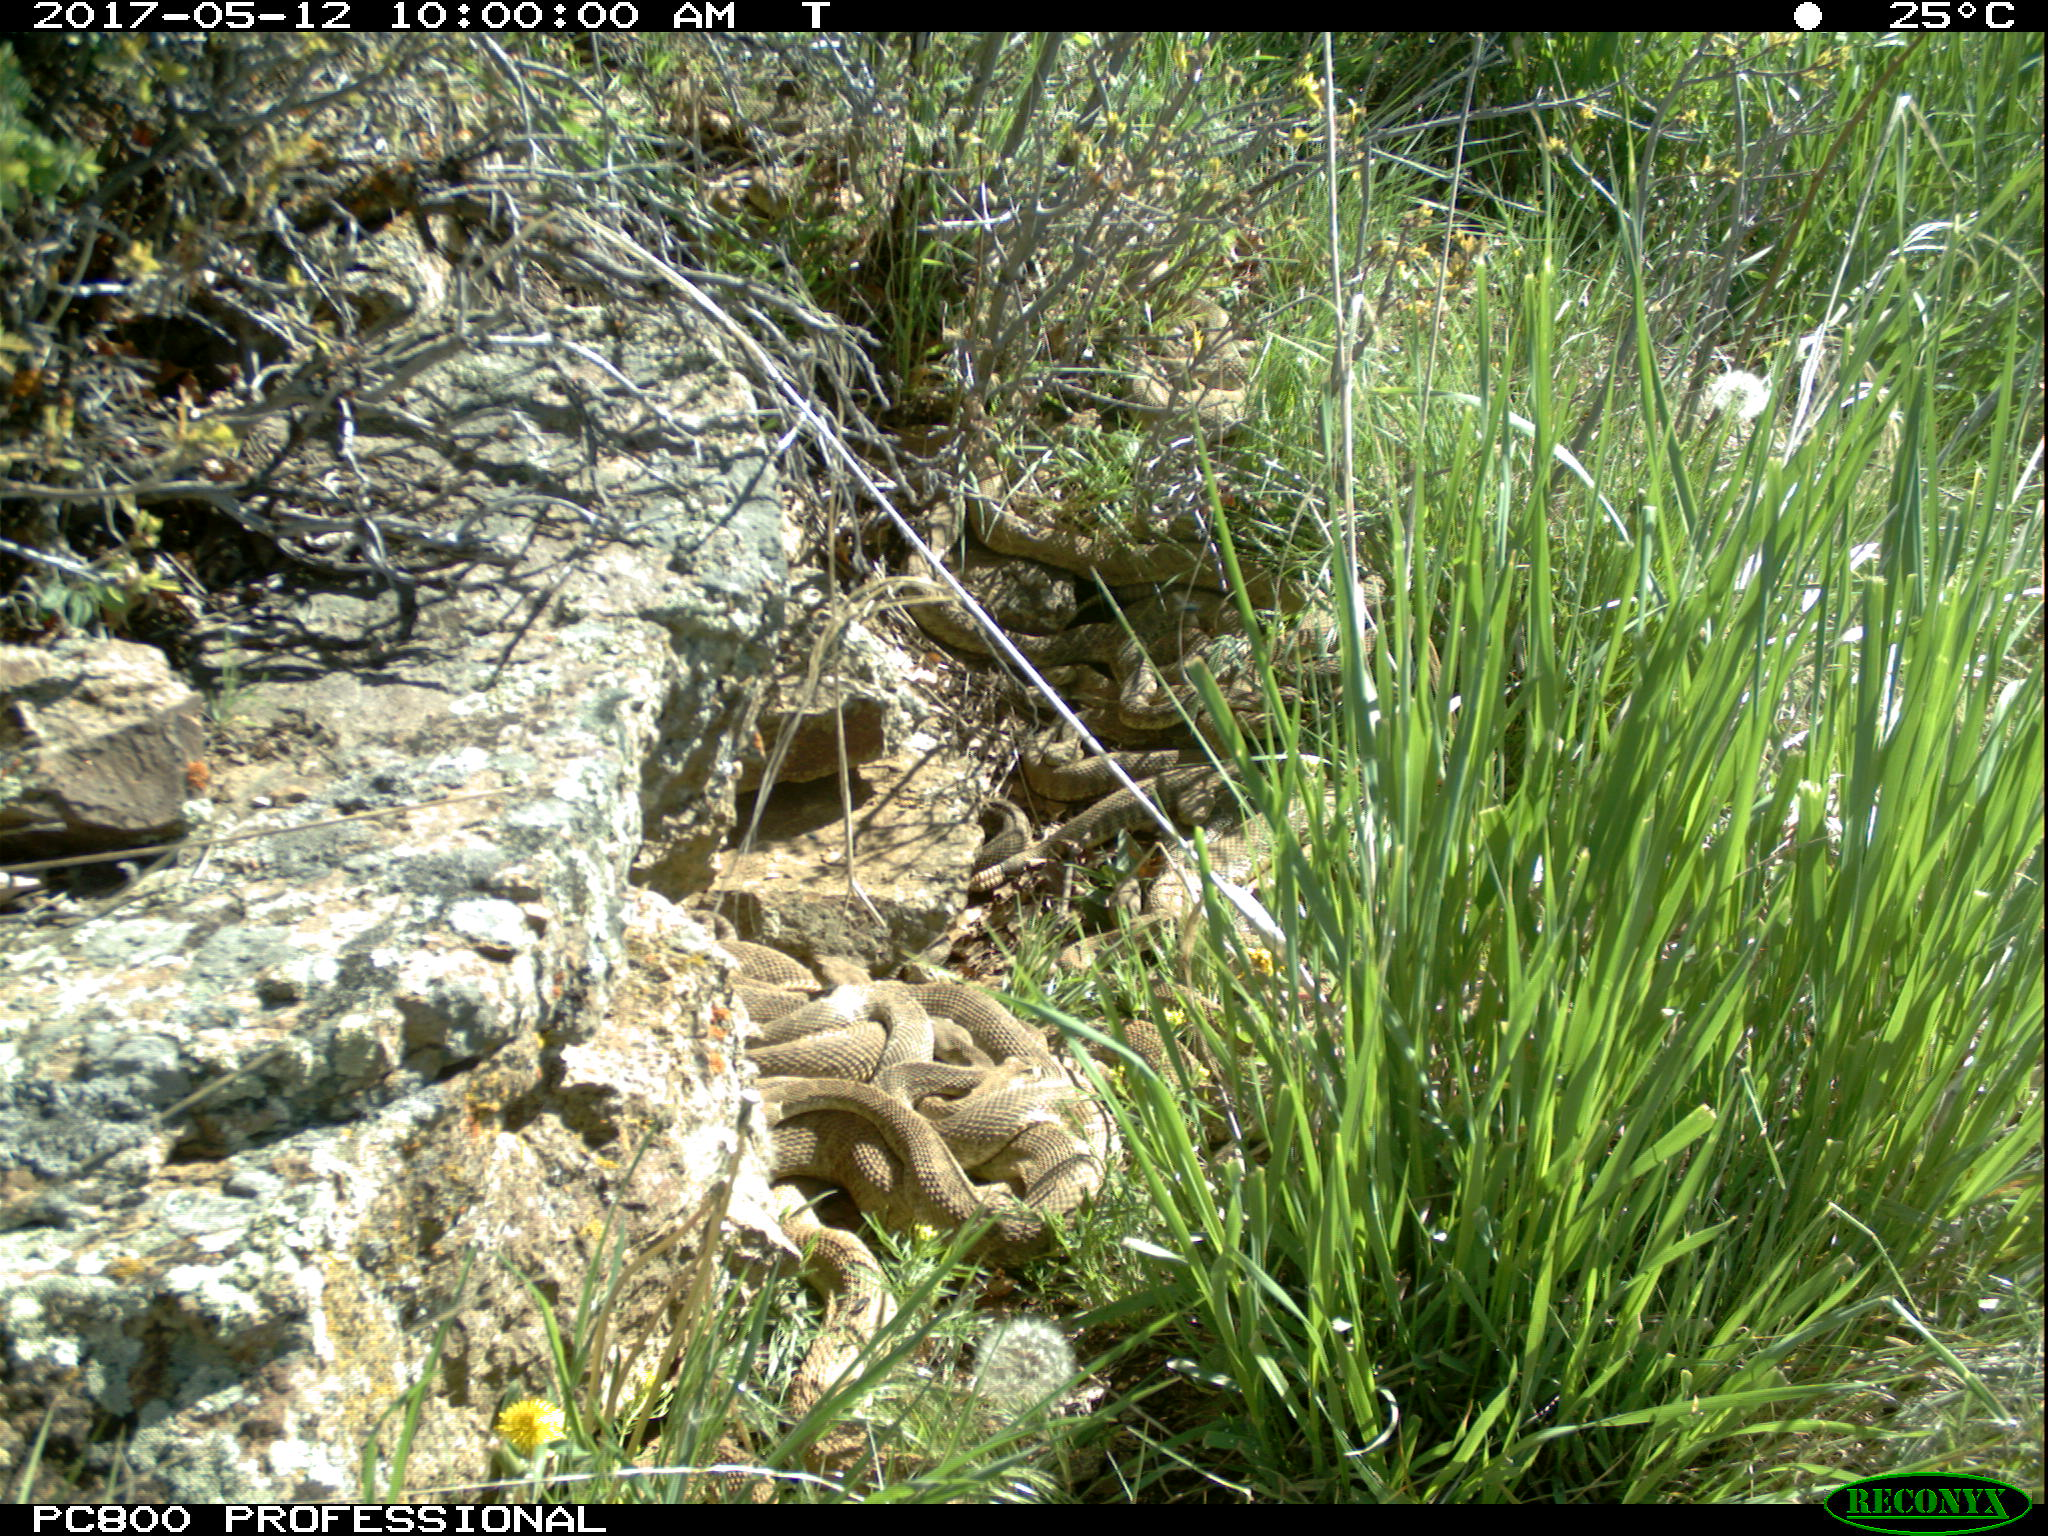snake: (751, 1075, 1130, 1244), (911, 589, 1230, 729), (722, 945, 939, 1134), (761, 1192, 897, 1467), (974, 786, 1200, 892), (963, 507, 1251, 587), (1251, 581, 1411, 702), (1030, 729, 1214, 805)
